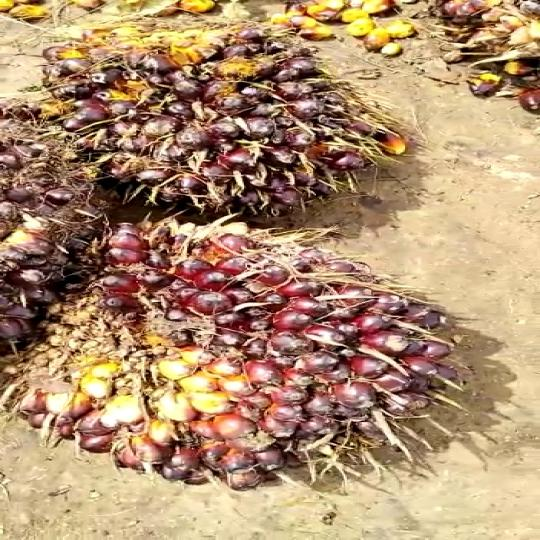kurang masak: (23, 210, 461, 498), (38, 18, 442, 219)
